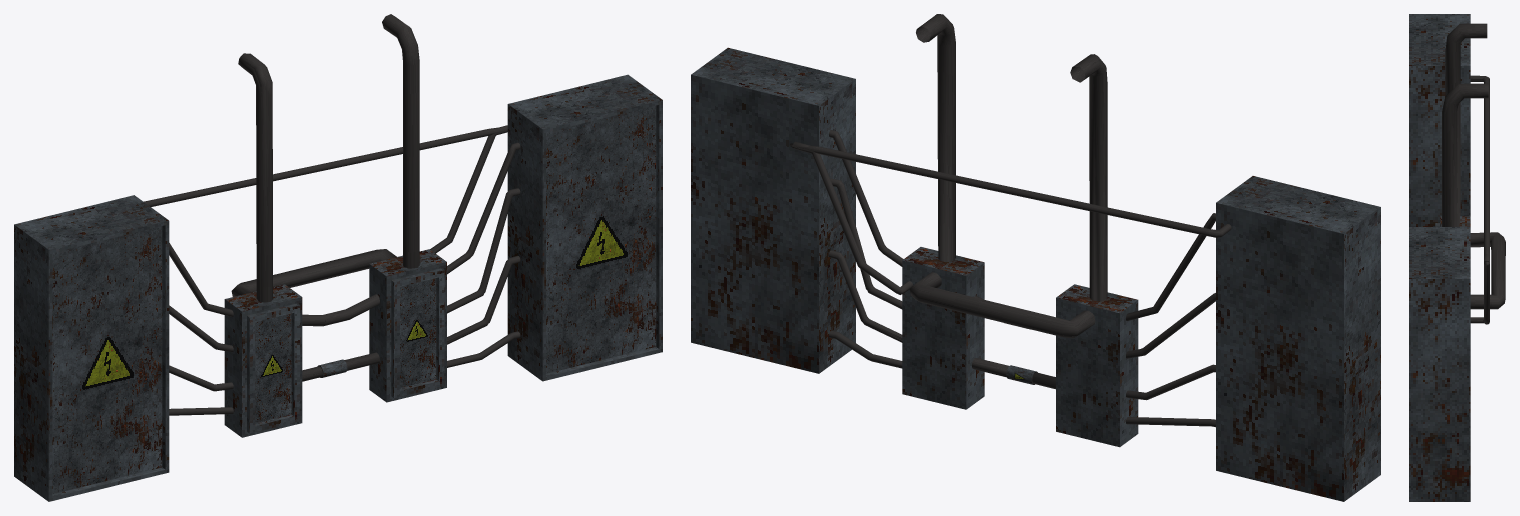
File: elektro.glb
3 renders of one model, left to right at view 1: azimuth 30°, elevation 25°; view 2: azimuth 150°, elevation 25°; view 3: azimuth 270°, elevation 25°, orthographic. The views are drawn at different scales.
Parts seen in each view (by area): view 1: tambalan; view 2: tambalan; view 3: tambalan.
Part boxes in pixels (x1,y1,x2,y2): tambalan: (14,14,662,501); tambalan: (691,14,1380,501); tambalan: (1409,14,1505,501).
Size of the model in its own units: 5.1 by 2.86 by 0.7862.
1 material, 1 textured.
